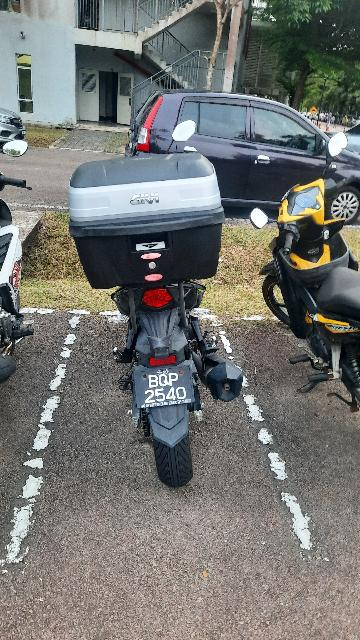License_Plate: (136, 367, 198, 407)
car: (141, 89, 360, 225)
motorcycle: (85, 132, 254, 490), (243, 129, 360, 437)
